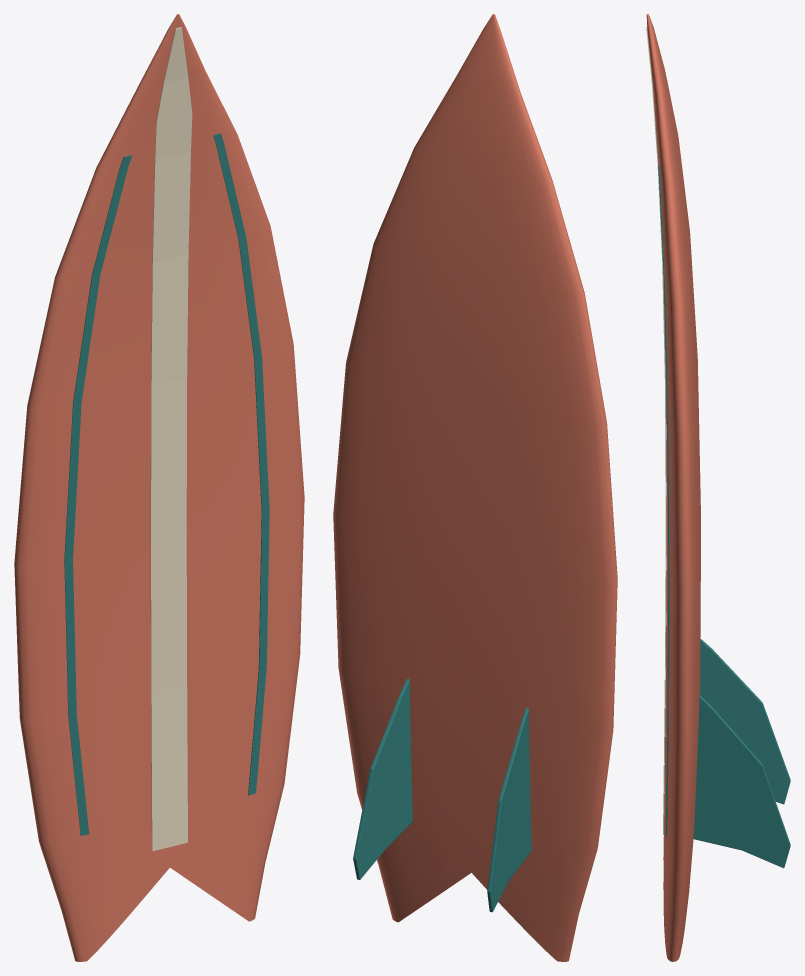
File: surfboard_fish.glb
3 views of the same model, side by side, from view 1: azimuth 30°, elevation 25°; view 2: azimuth 150°, elevation 25°; view 3: azimuth 270°, elevation 25° (orthographic). The views are drawn at different scales.
Parts seen in each view (by area): view 1: FishBoard_Closed_Rocker_Body, FishBoard_Cream_Centre_Panel, FishBoard_Thin_Teal_Rail_Stripe, FishBoard_Thin_Teal_Rail_Stripe.001; view 2: FishBoard_Closed_Rocker_Body, FishBoard_Attached_Twin_Keel.001, FishBoard_Attached_Twin_Keel; view 3: FishBoard_Closed_Rocker_Body, FishBoard_Attached_Twin_Keel.001, FishBoard_Attached_Twin_Keel, FishBoard_Thin_Teal_Rail_Stripe.001, FishBoard_Cream_Centre_Panel.
Part boxes in pixels (box(x1,y1,x2,y2)): FishBoard_Closed_Rocker_Body: box(14, 14, 304, 961); FishBoard_Cream_Centre_Panel: box(150, 27, 192, 851); FishBoard_Thin_Teal_Rail_Stripe: box(64, 155, 132, 835); FishBoard_Thin_Teal_Rail_Stripe.001: box(213, 133, 269, 795); FishBoard_Closed_Rocker_Body: box(333, 14, 617, 961); FishBoard_Attached_Twin_Keel.001: box(353, 678, 412, 879); FishBoard_Attached_Twin_Keel: box(487, 708, 531, 912); FishBoard_Closed_Rocker_Body: box(646, 14, 700, 961); FishBoard_Attached_Twin_Keel.001: box(693, 695, 790, 868); FishBoard_Attached_Twin_Keel: box(700, 638, 790, 804); FishBoard_Thin_Teal_Rail_Stripe.001: box(658, 164, 669, 837); FishBoard_Cream_Centre_Panel: box(646, 25, 666, 834).
Bounding box in the file's own units: 0.584 × 1.8 × 0.2601.
